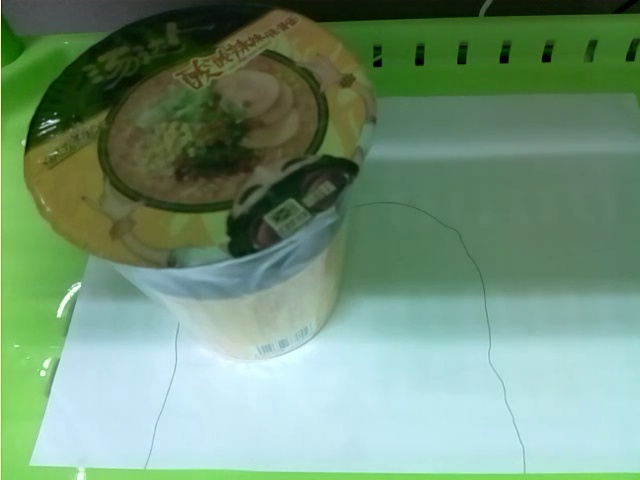noodles: (24, 5, 376, 361)
